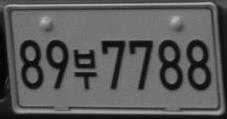7: (128, 39, 153, 90), (100, 40, 126, 89)
8: (184, 38, 212, 91), (156, 38, 183, 91), (19, 38, 44, 91)
9: (44, 38, 69, 89)
부: (73, 48, 98, 89)
